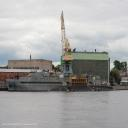submarine: (50, 86, 118, 93)
